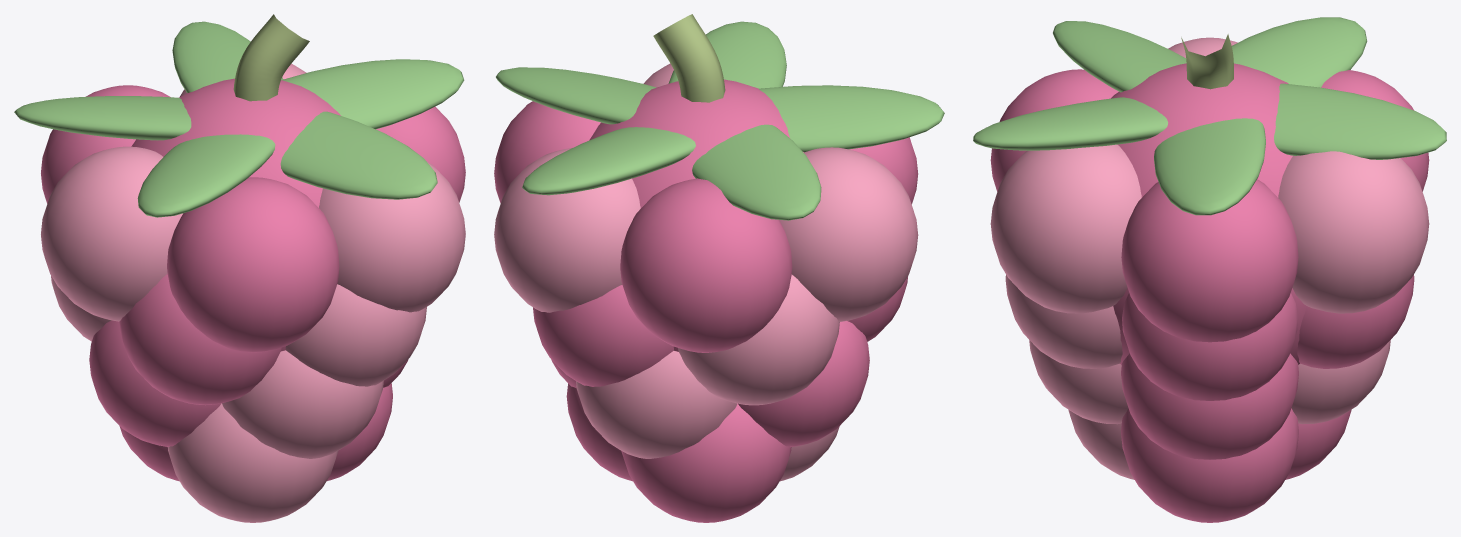
Rendered from item-berry.glb.
The picture shows the model from 3 angles, left to right: view 1: azimuth 30°, elevation 25°; view 2: azimuth 150°, elevation 25°; view 3: azimuth 270°, elevation 25°; orthographic projection. The views are drawn at different scales.
Parts seen in each view (by area): view 1: v5-razz-berry; view 2: v5-razz-berry; view 3: v5-razz-berry.
Part boxes in pixels (x1,y1,x2,y2): v5-razz-berry: [14, 14, 465, 522]; v5-razz-berry: [494, 14, 944, 522]; v5-razz-berry: [973, 17, 1446, 522].
Bounding box in the file's own units: 0.5497 × 0.6 × 0.532.
